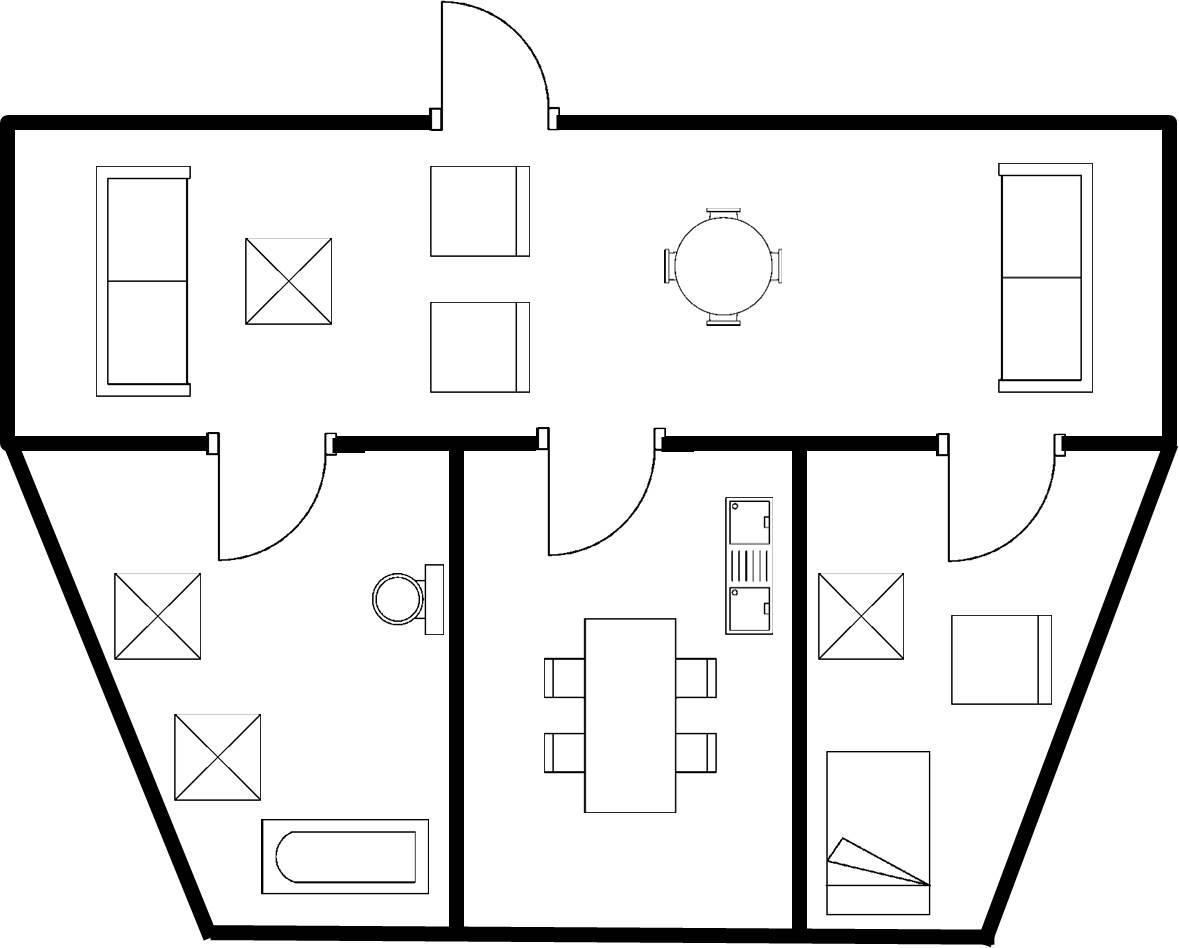bed: (816, 742, 938, 922)
coffee_table: (237, 227, 342, 334), (104, 568, 210, 668), (813, 565, 912, 666), (167, 708, 266, 807)
dining_table: (536, 610, 725, 824)
large_sink: (366, 558, 451, 642)
large_sofa: (990, 154, 1102, 407), (88, 158, 202, 406)
round_table: (654, 202, 799, 336)
small_sofa: (939, 608, 1060, 719), (420, 157, 539, 265), (421, 296, 541, 401)
tub: (254, 812, 437, 903)
twin_sink: (718, 491, 782, 641)
